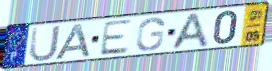0: (211, 9, 240, 46)
A: (168, 11, 210, 51), (53, 22, 93, 61)
E: (97, 18, 132, 57)
G: (135, 16, 167, 52)
U: (28, 24, 62, 63)
